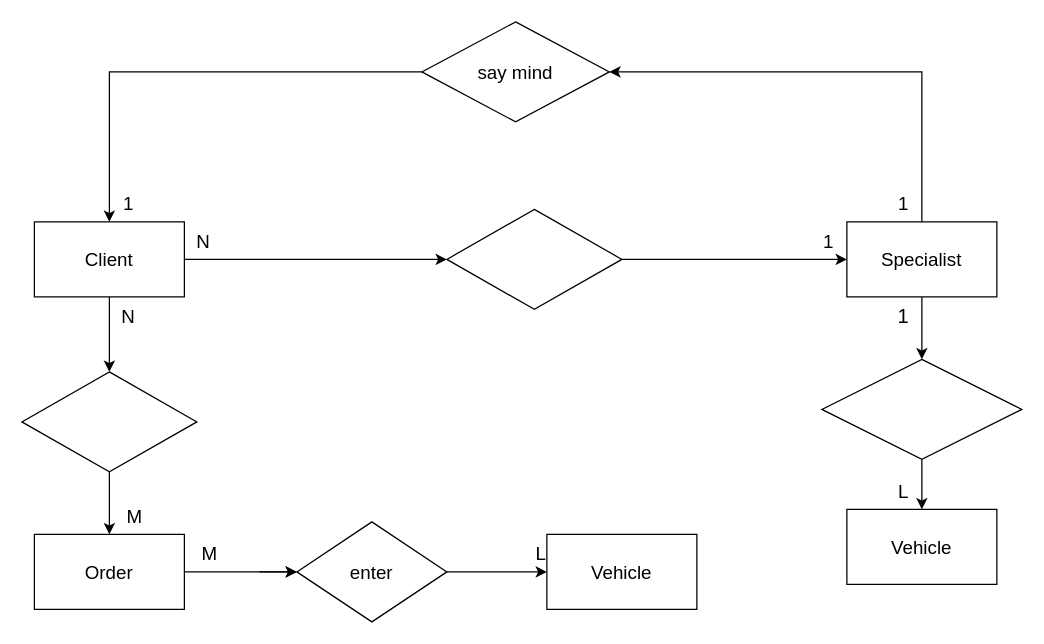
Image size: 1044x644. Some labels were removed from this diagram. The shapes that lost their labels are listed below. From the top down, each one's centre as x and y in pixels, then its label:
At pixel 534 258: "discuss with".
At pixel 109 421: "make".
At pixel 921 408: "for buying".
